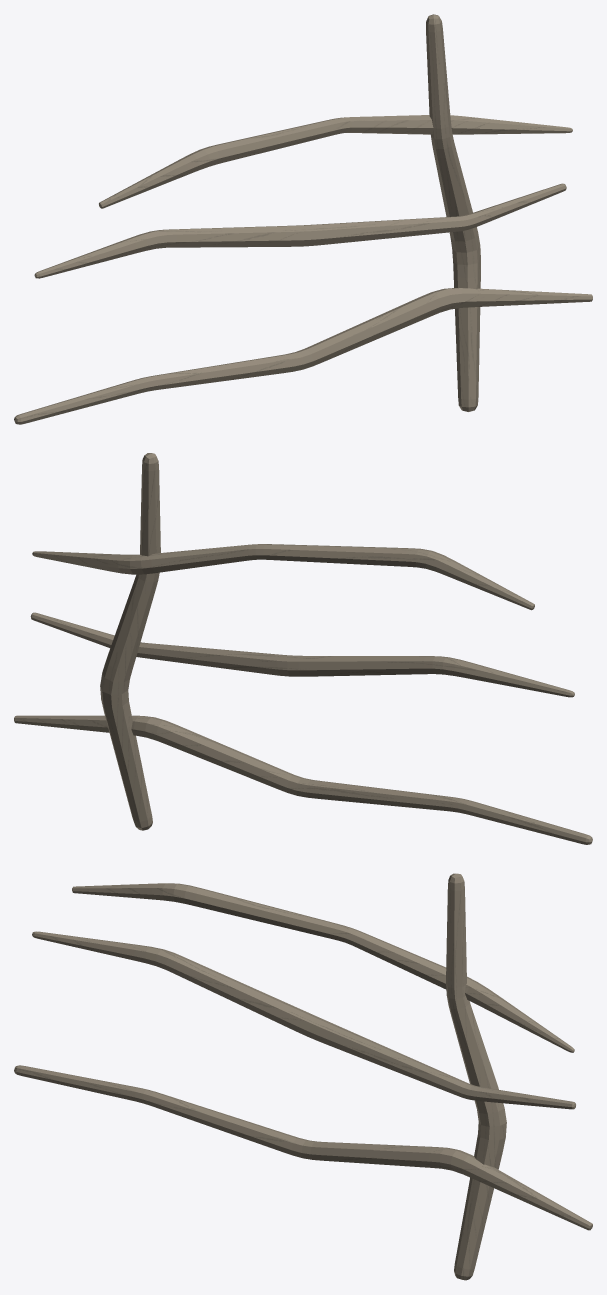
Rendered from valla parcial 2.fbx.
3 renders of one model, top to bottom at view 1: azimuth 30°, elevation 25°; view 2: azimuth 150°, elevation 25°; view 3: azimuth 330°, elevation 25°, orthographic.
Parts seen in each view (by area): view 1: Vert.053; view 2: Vert.053; view 3: Vert.053.
Boxes of the visible parts, x1,y1,x2,y2 form: Vert.053: [14, 14, 592, 424]; Vert.053: [14, 453, 592, 844]; Vert.053: [14, 873, 592, 1280].
Size of the model in its own units: 837 by 542 by 97.77.
